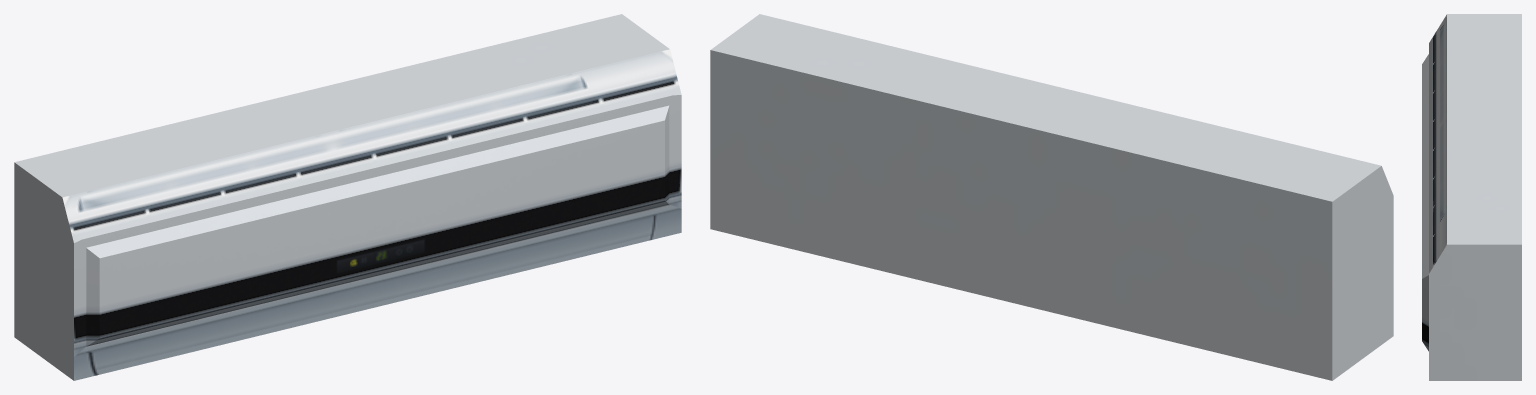
File: AirConditioner.FBX
The picture shows the model from 3 angles, left to right: view 1: azimuth 30°, elevation 25°; view 2: azimuth 150°, elevation 25°; view 3: azimuth 270°, elevation 25°; orthographic projection. The views are drawn at different scales.
Parts seen in each view (by area): view 1: AirConditioner; view 2: AirConditioner; view 3: AirConditioner.
Part boxes in pixels (bbox=[...]): AirConditioner: bbox=[14, 14, 681, 380]; AirConditioner: bbox=[710, 14, 1393, 380]; AirConditioner: bbox=[1422, 14, 1521, 380].
Size of the model in its own units: 67.05 by 18.46 by 12.27.
